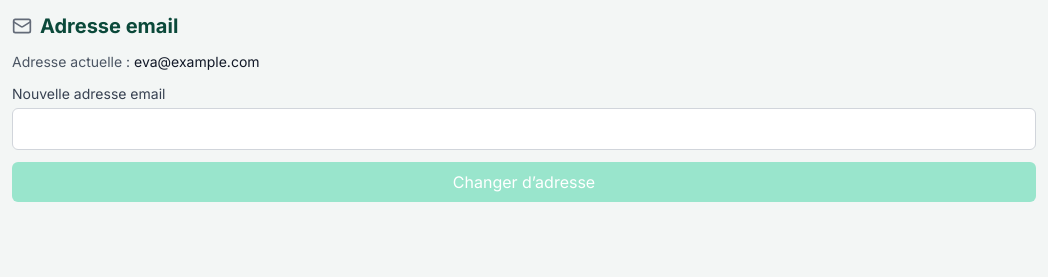
EmailChangeForm › traduit l'erreur « adresse déjà utilisée »
The width and height of the screenshot is (1048, 277).
Type "autre@example.com" into the field labelled "Nouvelle adresse email" at (524, 129), box [12,108,1036,150]
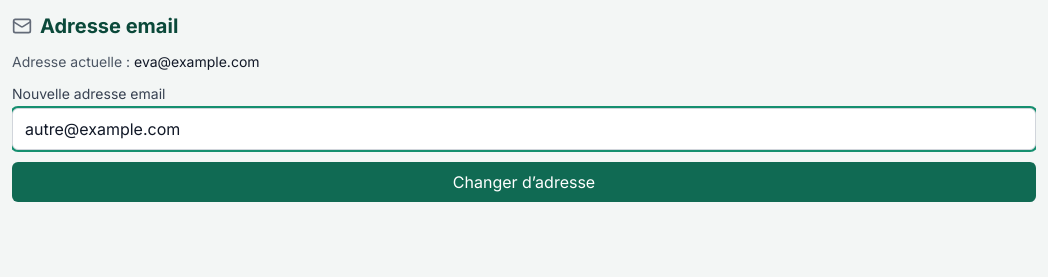
Click the button "Changer d’adresse" at (524, 182), box [12,162,1036,202]
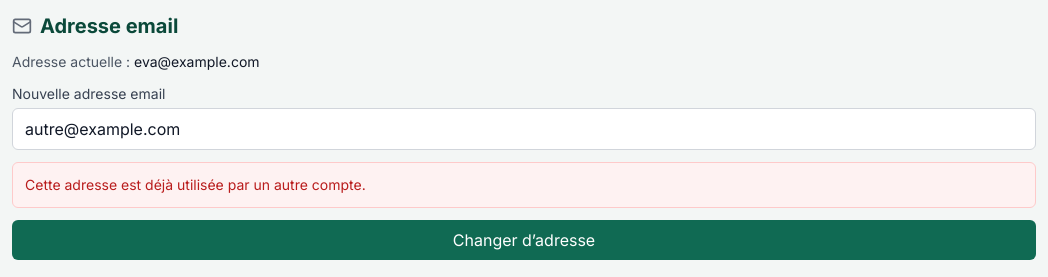
expect the message shows "déjà utilisée par un autre compte": met, box [25,176,366,193]
